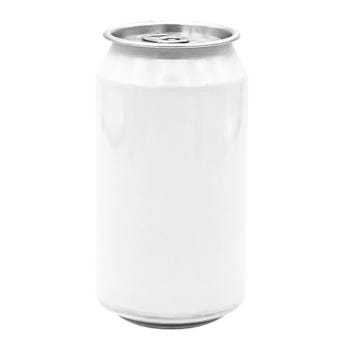paper: (94, 23, 250, 328)
